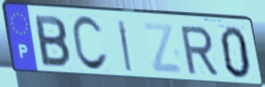0: (218, 25, 253, 81)
B: (33, 14, 73, 71)
C: (70, 14, 110, 74)
I: (116, 18, 134, 73)
R: (178, 25, 221, 77)
Z: (141, 21, 185, 76)
